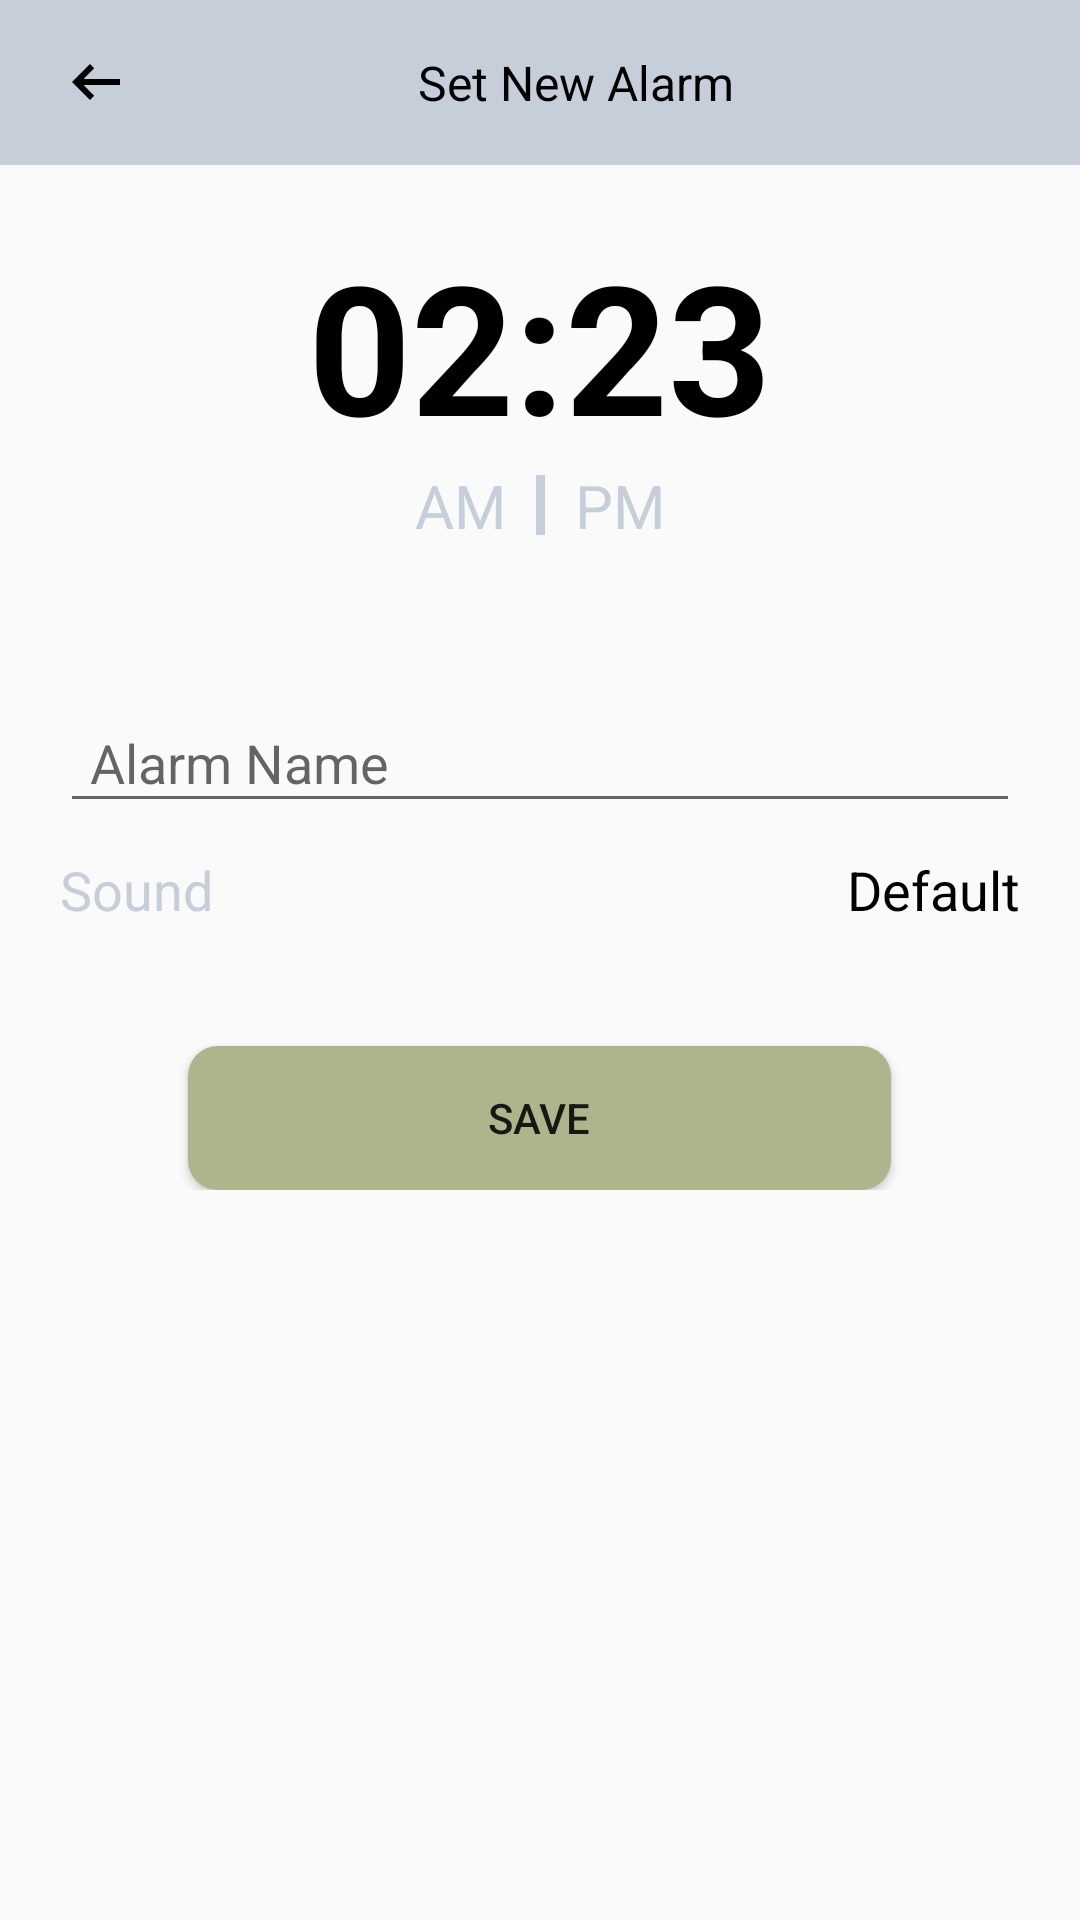

Icon click points for this 1080px x 1920px phone screenshot, format [x,y]:
back arrow: [96,82]
